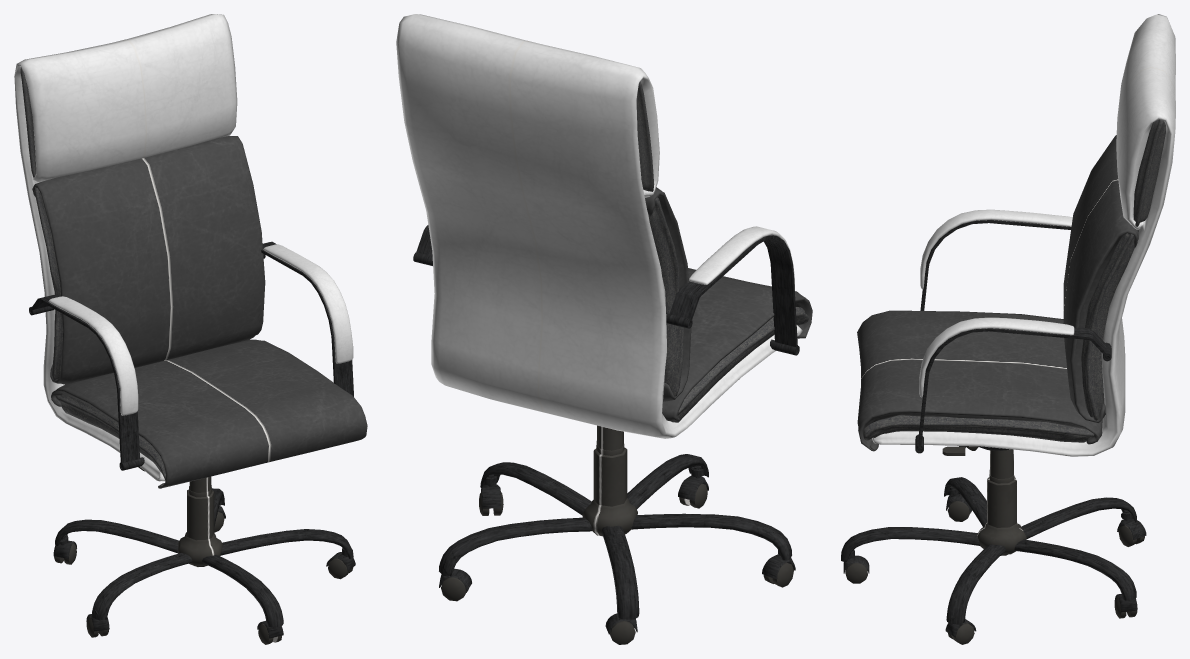
File: sedia.glb
The picture shows the model from 3 angles, left to right: view 1: azimuth 30°, elevation 25°; view 2: azimuth 150°, elevation 25°; view 3: azimuth 270°, elevation 25°; orthographic projection. The views are drawn at different scales.
Parts seen in each view (by area): view 1: Office_Chair_MODERN; view 2: Office_Chair_MODERN; view 3: Office_Chair_MODERN.
Boxes of the visible parts, left/top/right/bottom form: Office_Chair_MODERN: left=14, top=14, right=367, bottom=644; Office_Chair_MODERN: left=396, top=14, right=812, bottom=644; Office_Chair_MODERN: left=841, top=14, right=1175, bottom=644.
Bounding box in the file's own units: 0.526 × 0.95 × 0.5575.
Materials: 1 (1 with a texture image).
